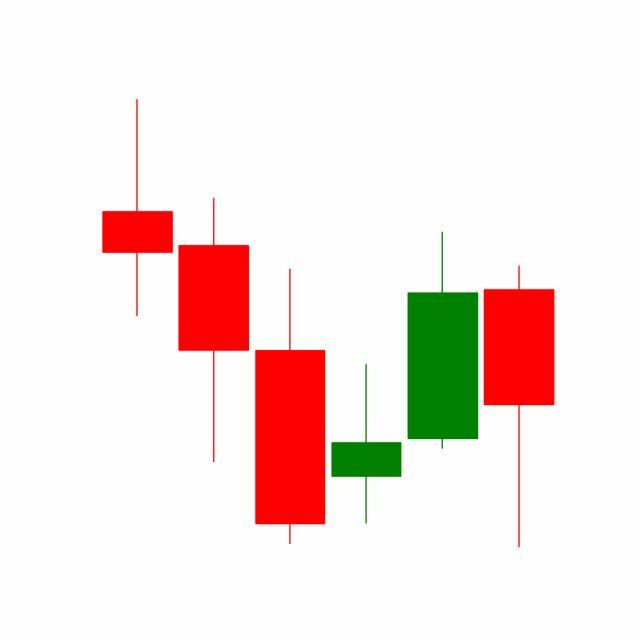Three Inside Up-Down: (252, 229, 482, 549)
